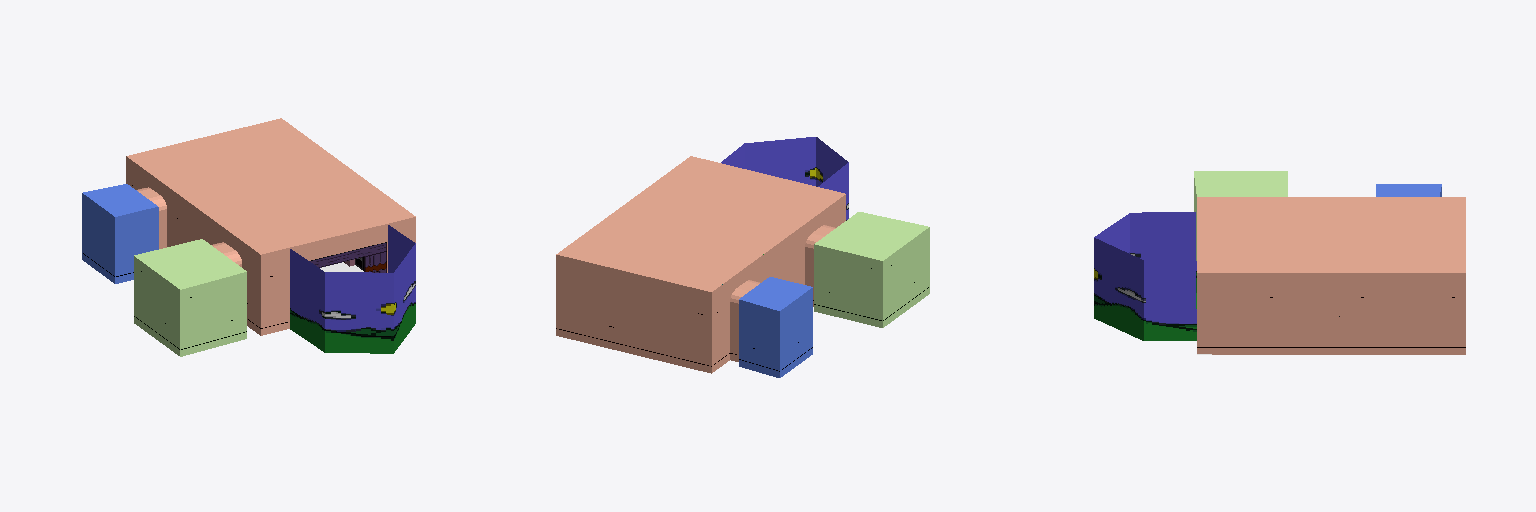
3 renders of one model, left to right at view 1: azimuth 30°, elevation 25°; view 2: azimuth 150°, elevation 25°; view 3: azimuth 270°, elevation 25°, orthographic.
Parts seen in each view (by area): view 1: default, 16, 3, 2, 17; view 2: default, 3, 2, 16; view 3: default, 16, 3, 2.
Boxes of the visible parts, x1,y1,x2,y2 form: default: [126, 118, 415, 335]; 16: [290, 225, 415, 353]; 3: [134, 239, 246, 356]; 2: [82, 184, 158, 283]; 17: [287, 242, 387, 328]; default: [556, 156, 845, 373]; 3: [814, 212, 929, 327]; 2: [739, 277, 812, 377]; 16: [721, 137, 848, 254]; default: [1197, 197, 1465, 354]; 16: [1094, 212, 1196, 340]; 3: [1194, 171, 1287, 260]; 2: [1376, 184, 1441, 196].
Size of the model in its own units: 445 by 146 by 605.
18 materials, 17 textured.